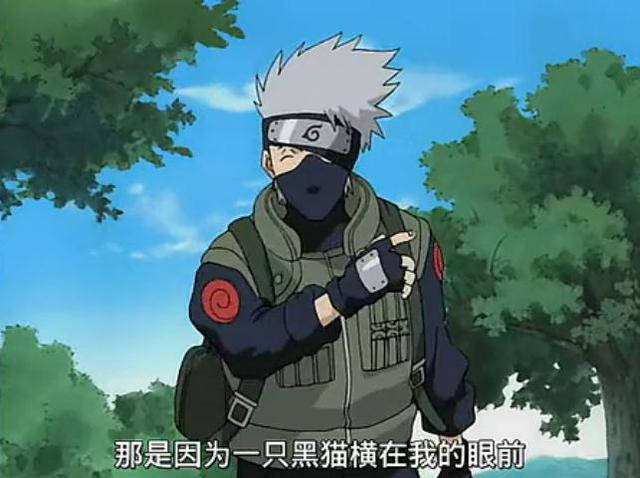kakashi: (258, 109, 364, 228)
